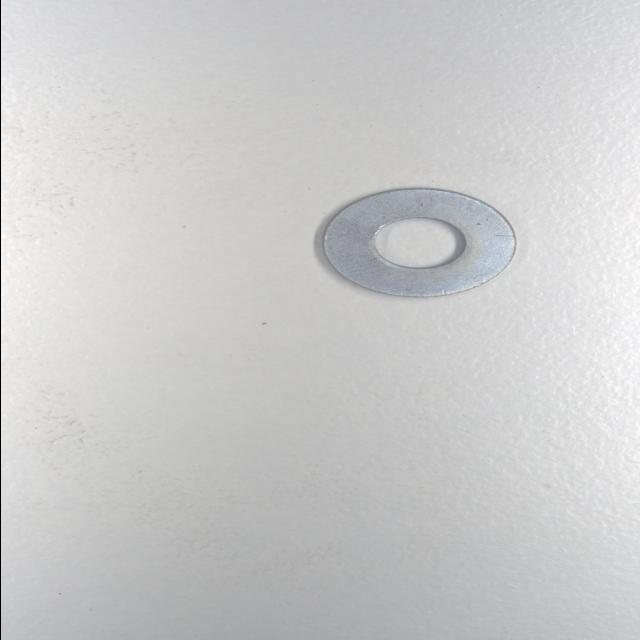washer: (317, 186, 517, 300)
